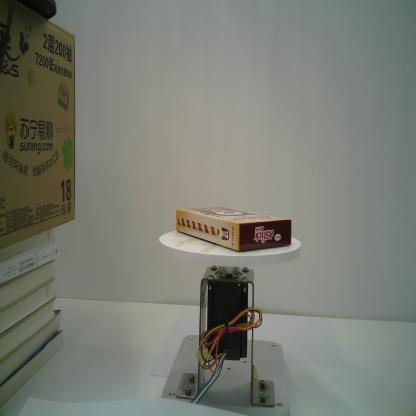Dessert: (174, 205, 293, 254)
